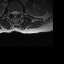CCS_normal: (14, 9, 16, 18)
LFS_normal: (18, 9, 20, 15)
LLS_normal: (16, 9, 18, 16)
RFS_normal: (9, 10, 11, 15)
RLS_normal: (11, 9, 14, 16)
